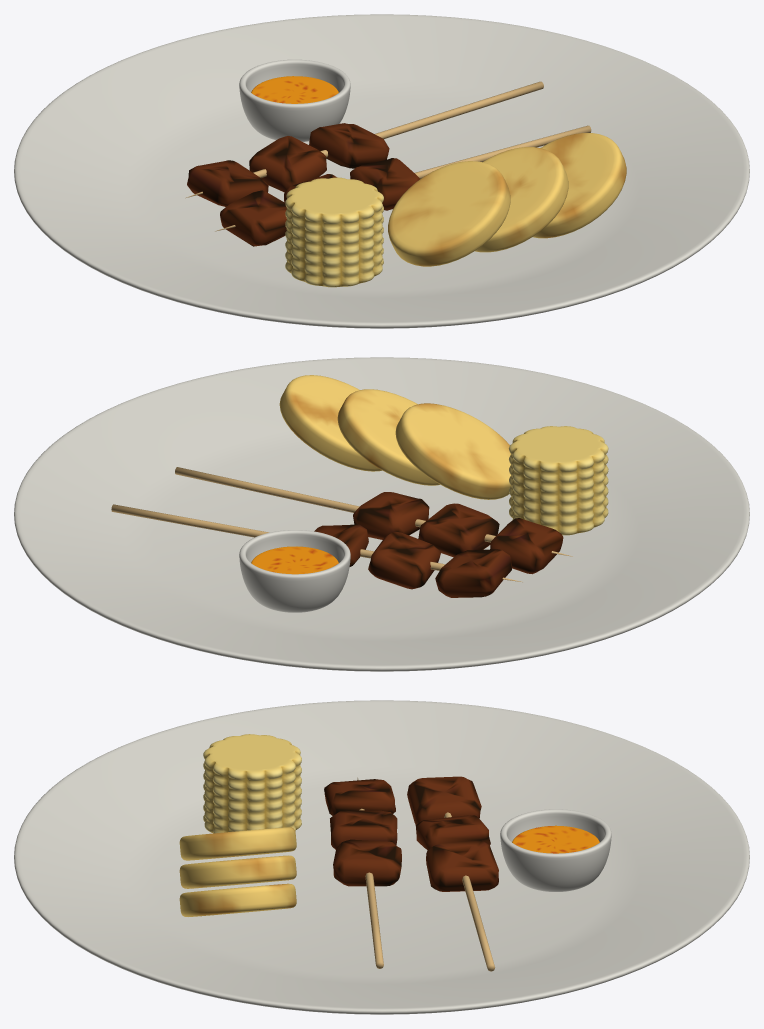
The model's file is paso-5.glb.
3 views of the same model, one above another, from view 1: azimuth 30°, elevation 25°; view 2: azimuth 150°, elevation 25°; view 3: azimuth 270°, elevation 25° (orthographic).
Parts seen in each view (by area): view 1: paso-5-0, paso-5-12, paso-5-9, paso-5-10, paso-5-11, paso-5-13, paso-5-3, paso-5-6, paso-5-4, paso-5-2, paso-5-8, paso-5-14 (+2 smaller); view 2: paso-5-0, paso-5-12, paso-5-9, paso-5-13, paso-5-11, paso-5-10, paso-5-2, paso-5-3, paso-5-7, paso-5-6, paso-5-8, paso-5-14 (+3 smaller); view 3: paso-5-0, paso-5-12, paso-5-13, paso-5-4, paso-5-10, paso-5-9, paso-5-11, paso-5-8, paso-5-2, paso-5-6, paso-5-7, paso-5-14 (+3 smaller).
Boxes of the visible parts, x1=… form: paso-5-0: x1=14, y1=14, x2=749, y2=328; paso-5-12: x1=285, y1=177, x2=383, y2=287; paso-5-9: x1=388, y1=161, x2=510, y2=266; paso-5-10: x1=475, y1=147, x2=568, y2=252; paso-5-11: x1=532, y1=133, x2=626, y2=238; paso-5-13: x1=239, y1=59, x2=350, y2=141; paso-5-3: x1=249, y1=136, x2=326, y2=192; paso-5-6: x1=220, y1=190, x2=286, y2=246; paso-5-4: x1=309, y1=123, x2=389, y2=168; paso-5-2: x1=187, y1=160, x2=268, y2=206; paso-5-8: x1=350, y1=158, x2=419, y2=210; paso-5-14: x1=251, y1=76, x2=338, y2=103; paso-5-0: x1=14, y1=357, x2=749, y2=671; paso-5-12: x1=508, y1=426, x2=608, y2=535; paso-5-9: x1=395, y1=403, x2=510, y2=499; paso-5-13: x1=239, y1=530, x2=350, y2=612; paso-5-11: x1=279, y1=375, x2=382, y2=471; paso-5-10: x1=337, y1=389, x2=440, y2=485; paso-5-2: x1=435, y1=549, x2=511, y2=597; paso-5-3: x1=368, y1=532, x2=440, y2=589; paso-5-7: x1=418, y1=503, x2=499, y2=557; paso-5-6: x1=490, y1=518, x2=563, y2=574; paso-5-8: x1=353, y1=492, x2=429, y2=539; paso-5-14: x1=251, y1=546, x2=338, y2=574; paso-5-0: x1=14, y1=700, x2=749, y2=1014; paso-5-12: x1=203, y1=734, x2=301, y2=833; paso-5-13: x1=500, y1=809, x2=611, y2=891; paso-5-4: x1=426, y1=840, x2=498, y2=891; paso-5-10: x1=179, y1=855, x2=296, y2=888; paso-5-9: x1=179, y1=827, x2=296, y2=860; paso-5-11: x1=179, y1=883, x2=296, y2=916; paso-5-8: x1=333, y1=839, x2=401, y2=886; paso-5-2: x1=407, y1=776, x2=481, y2=824; paso-5-6: x1=324, y1=779, x2=395, y2=815; paso-5-7: x1=330, y1=810, x2=397, y2=849; paso-5-14: x1=512, y1=825, x2=599, y2=853.
Size of the model in its own units: 0.33 by 0.042 by 0.33.
